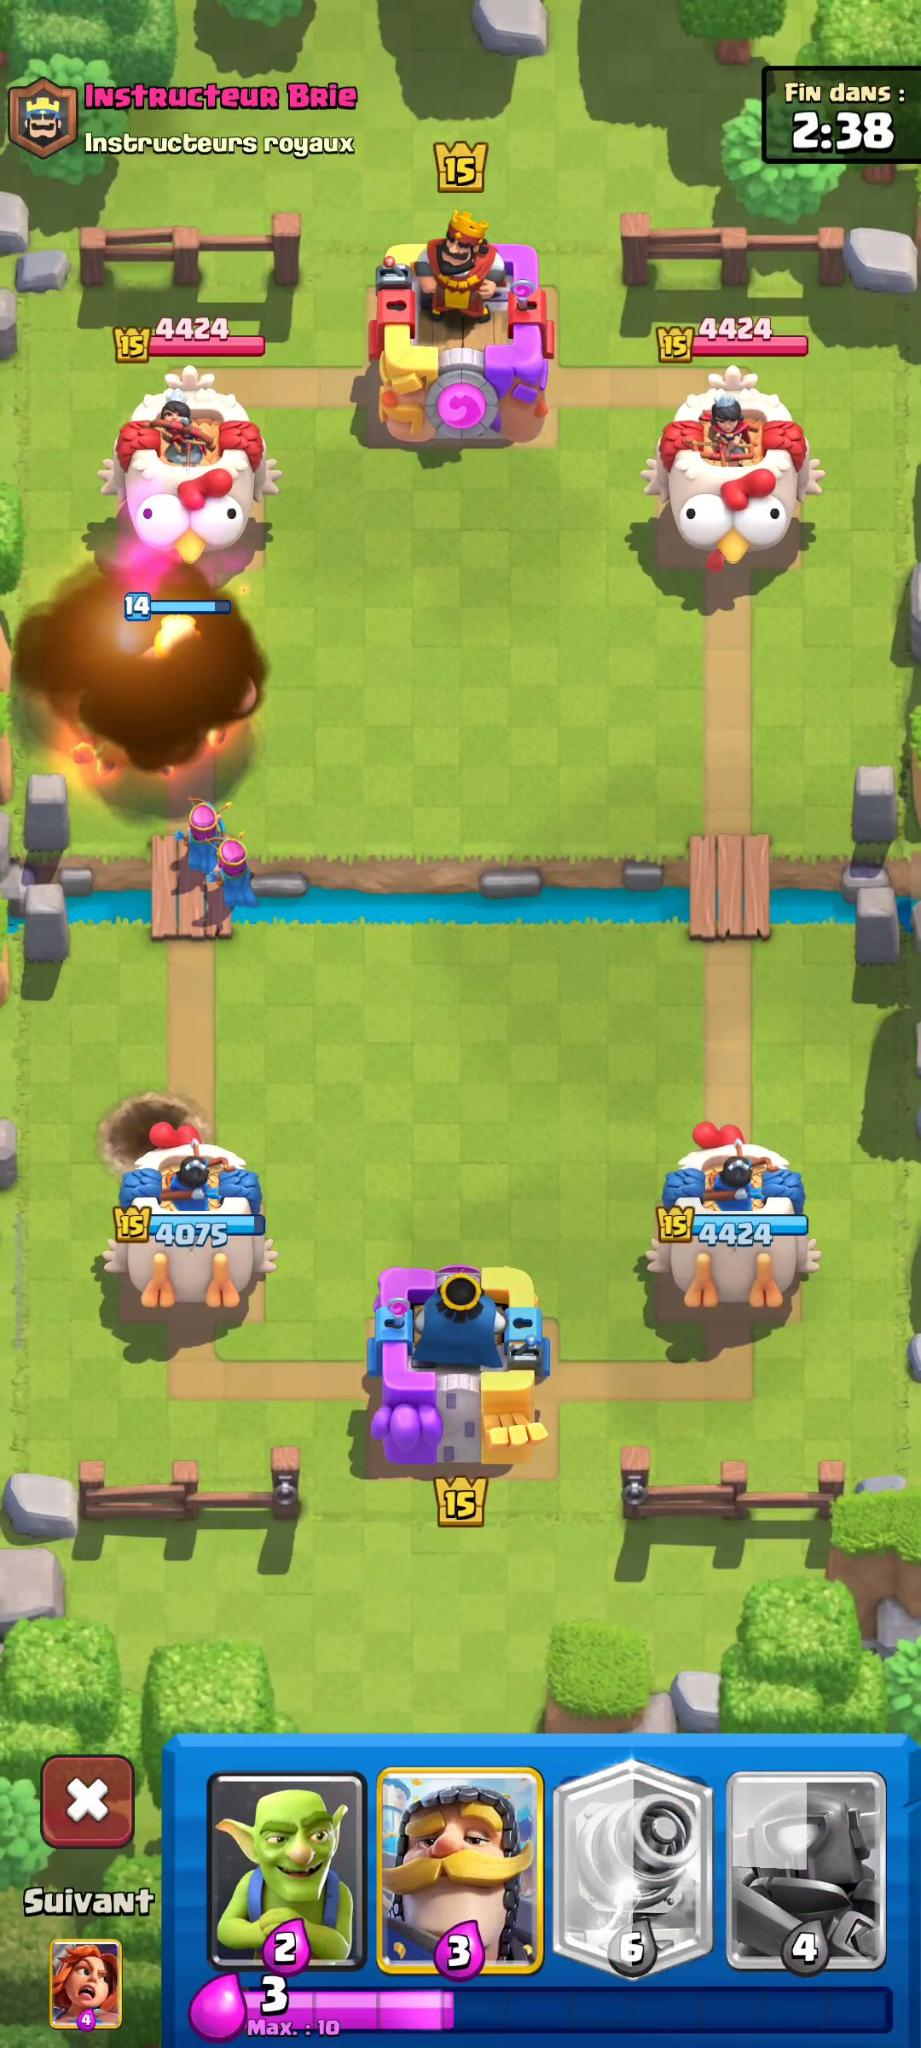archere: (199, 841, 274, 929), (170, 794, 233, 875)
geant: (82, 600, 265, 789)
